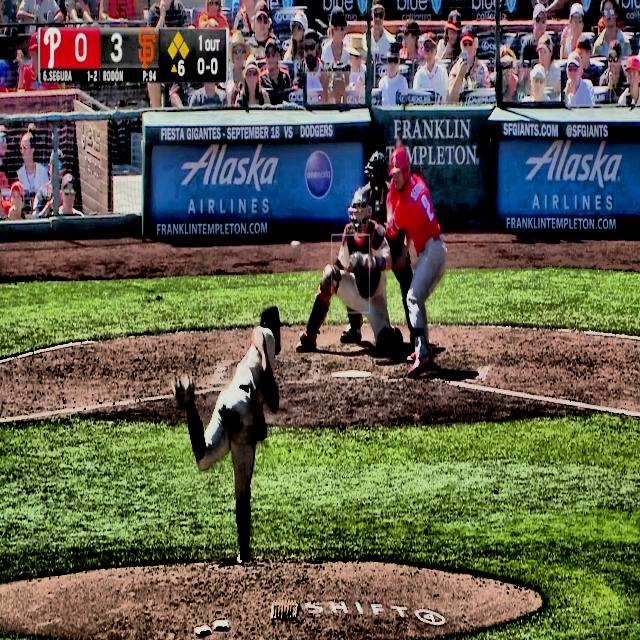baseball: (291, 240, 300, 250)
